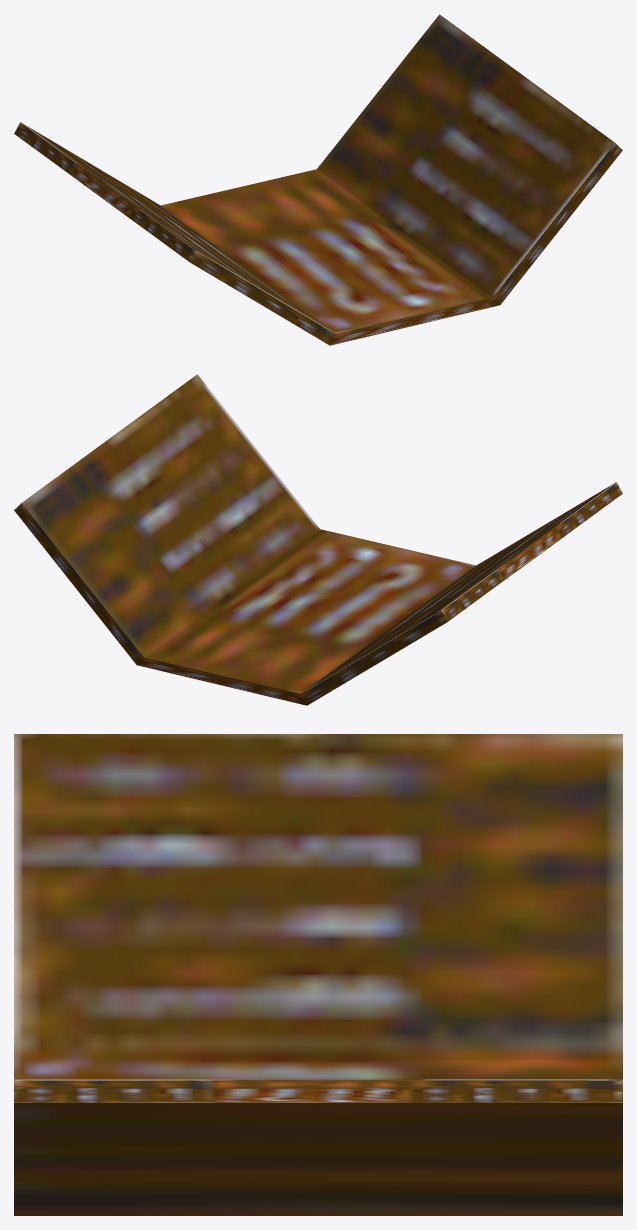
Rendered from ExLPSet.obj.
3 views of the same model, one above another, from view 1: azimuth 30°, elevation 25°; view 2: azimuth 150°, elevation 25°; view 3: azimuth 270°, elevation 25° (orthographic). The views are drawn at different scales.
Parts seen in each view (by area): view 1: Box01; view 2: Box01; view 3: Box01.
Boxes of the visible parts, left/top/right/bottom form: Box01: left=14, top=14, right=622, bottom=345; Box01: left=14, top=374, right=622, bottom=705; Box01: left=14, top=734, right=622, bottom=1215.
Bounding box in the file's own units: 17.24 × 5.11 × 12.09.
